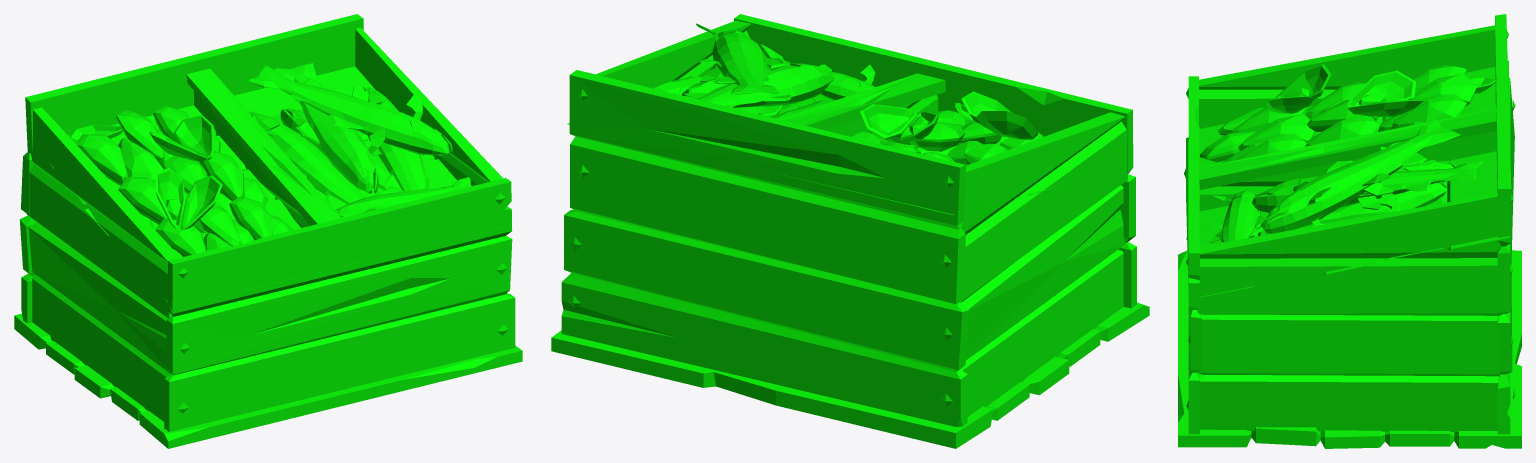
The model's file is SM_Crate_Display_Fantasy_A_Fish.fbx.
The picture shows the model from 3 angles, left to right: view 1: azimuth 30°, elevation 25°; view 2: azimuth 150°, elevation 25°; view 3: azimuth 270°, elevation 25°; orthographic projection. The views are drawn at different scales.
Parts seen in each view (by area): view 1: crate-display-fantasy-a-fish; view 2: crate-display-fantasy-a-fish; view 3: crate-display-fantasy-a-fish.
Part boxes in pixels (left/top/right/bottom): crate-display-fantasy-a-fish: left=14, top=14, right=522, bottom=448; crate-display-fantasy-a-fish: left=551, top=14, right=1149, bottom=448; crate-display-fantasy-a-fish: left=1178, top=14, right=1521, bottom=448.
Size of the model in its own units: 1.04 by 0.6639 by 0.8064.
